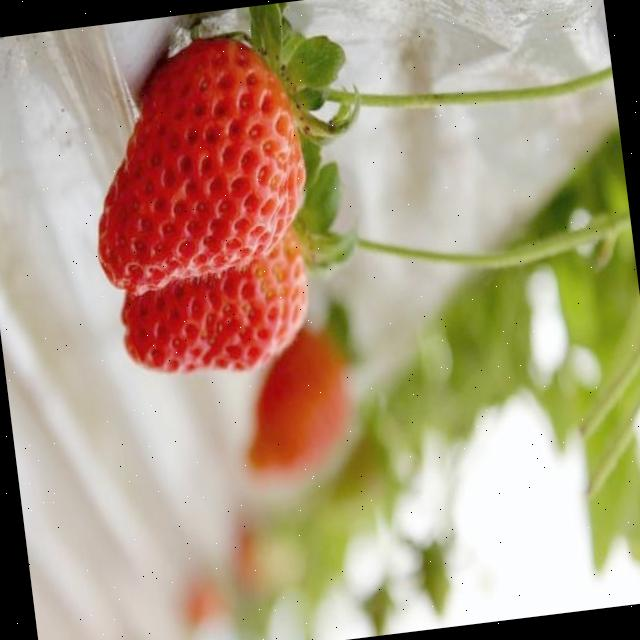strawberry: (72, 27, 318, 300), (110, 224, 317, 386)
